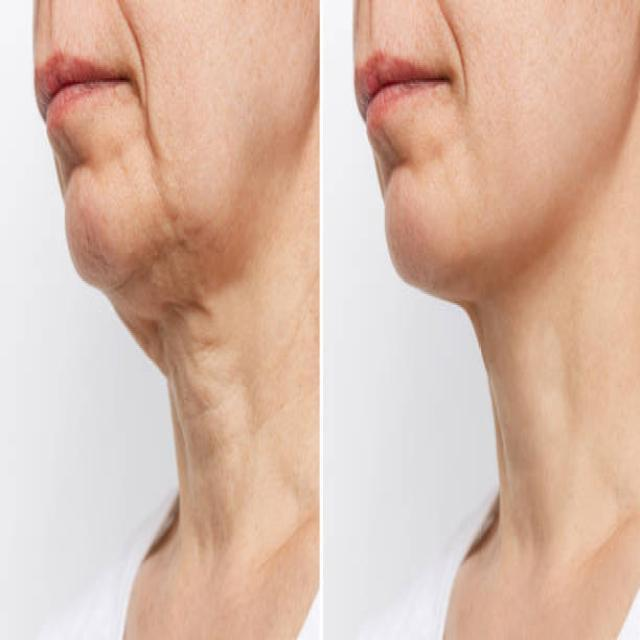dry: (141, 0, 313, 260)
